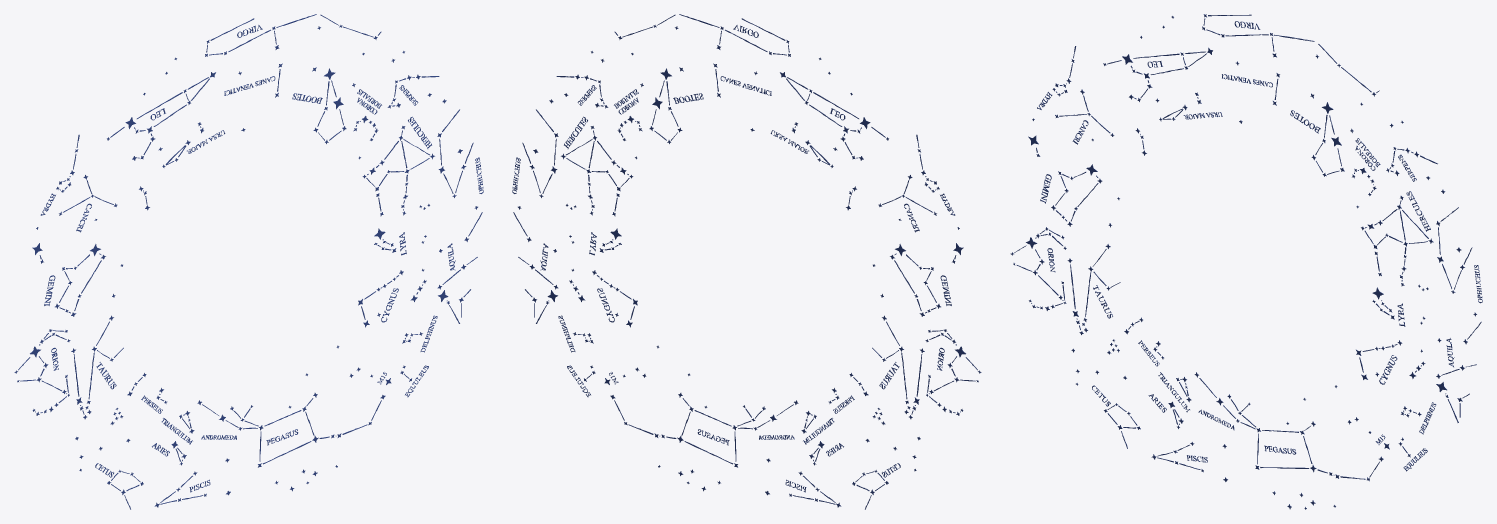
The model's file is dial.glb.
3 renders of one model, left to right at view 1: azimuth 30°, elevation 25°; view 2: azimuth 150°, elevation 25°; view 3: azimuth 330°, elevation 25°, orthographic.
Visible parts, largest first — view 1: dial_celestial; view 2: dial_celestial; view 3: dial_celestial.
Boxes of the visible parts, left/top/right/bottom form: dial_celestial: left=14, top=14, right=483, bottom=509; dial_celestial: left=512, top=14, right=981, bottom=509; dial_celestial: left=1010, top=14, right=1482, bottom=509.
Bounding box in the file's own units: 0.0389 × 0.0382 × 4.56e-05.
